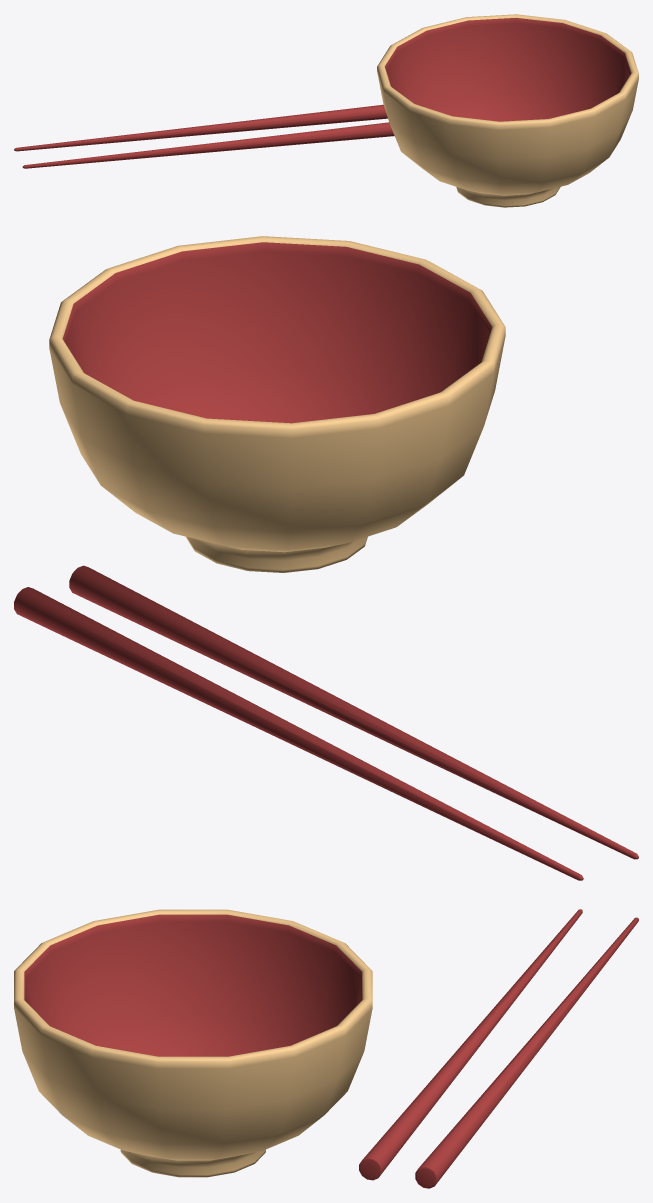
File: NNJ0410006.fbx
3 views of the same model, one above another, from view 1: azimuth 30°, elevation 25°; view 2: azimuth 150°, elevation 25°; view 3: azimuth 270°, elevation 25° (orthographic). The views are drawn at different scales.
Parts seen in each view (by area): view 1: smNNJ0410006; view 2: smNNJ0410006; view 3: smNNJ0410006.
Boxes of the visible parts, x1=… form: smNNJ0410006: x1=14, y1=14, x2=638, y2=207; smNNJ0410006: x1=14, y1=236, x2=638, y2=880; smNNJ0410006: x1=14, y1=909, x2=638, y2=1188.
Size of the model in its own units: 53.83 by 13.38 by 45.68.
Materials: 1 (1 with a texture image).
